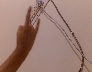hand: (13, 5, 41, 59)
